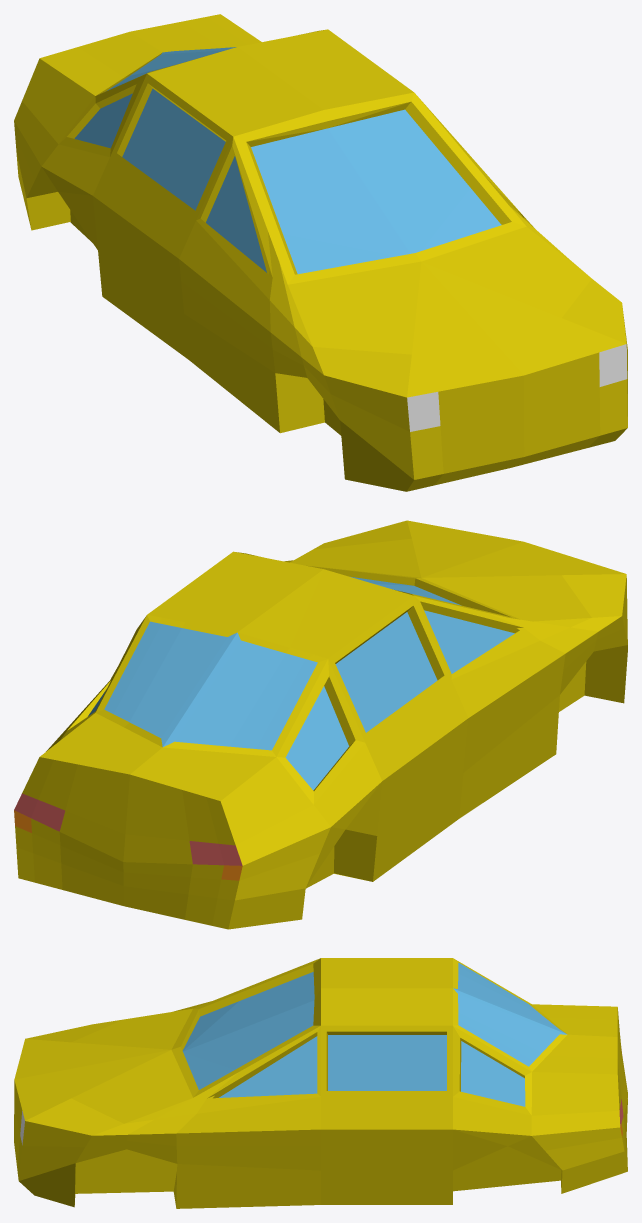
Rendered from yellow sedan.fbx.
3 renders of one model, top to bottom at view 1: azimuth 30°, elevation 25°; view 2: azimuth 150°, elevation 25°; view 3: azimuth 270°, elevation 25°, orthographic. The views are drawn at different scales.
Visible parts, largest first — view 1: Cube; view 2: Cube; view 3: Cube.
Part boxes in pixels (x1,y1,x2,y2): Cube: (14,14,627,491); Cube: (14,520,627,929); Cube: (14,958,627,1208).
Bounding box in the file's own units: 399 × 283 × 930.
